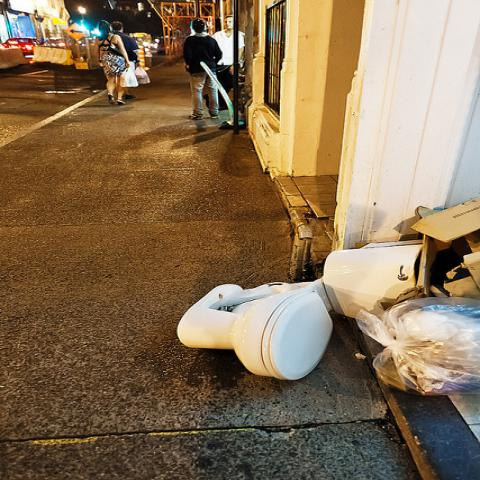car: (1, 36, 40, 62)
